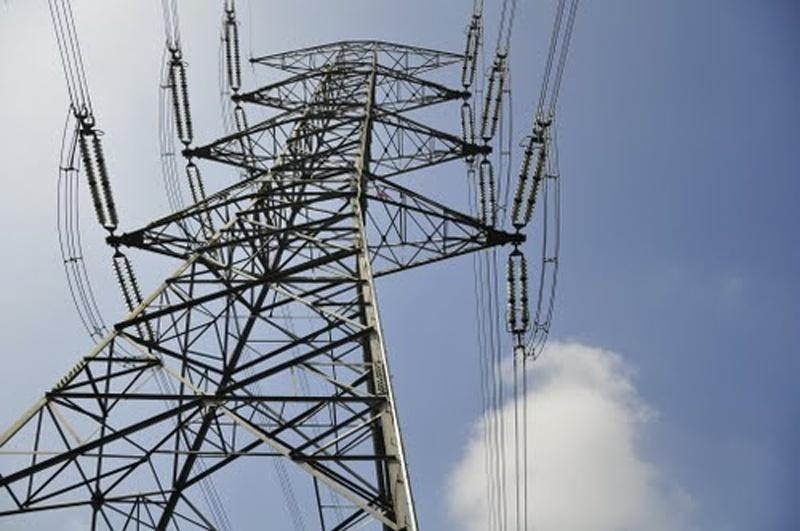power_tower: (10, 23, 489, 524)
